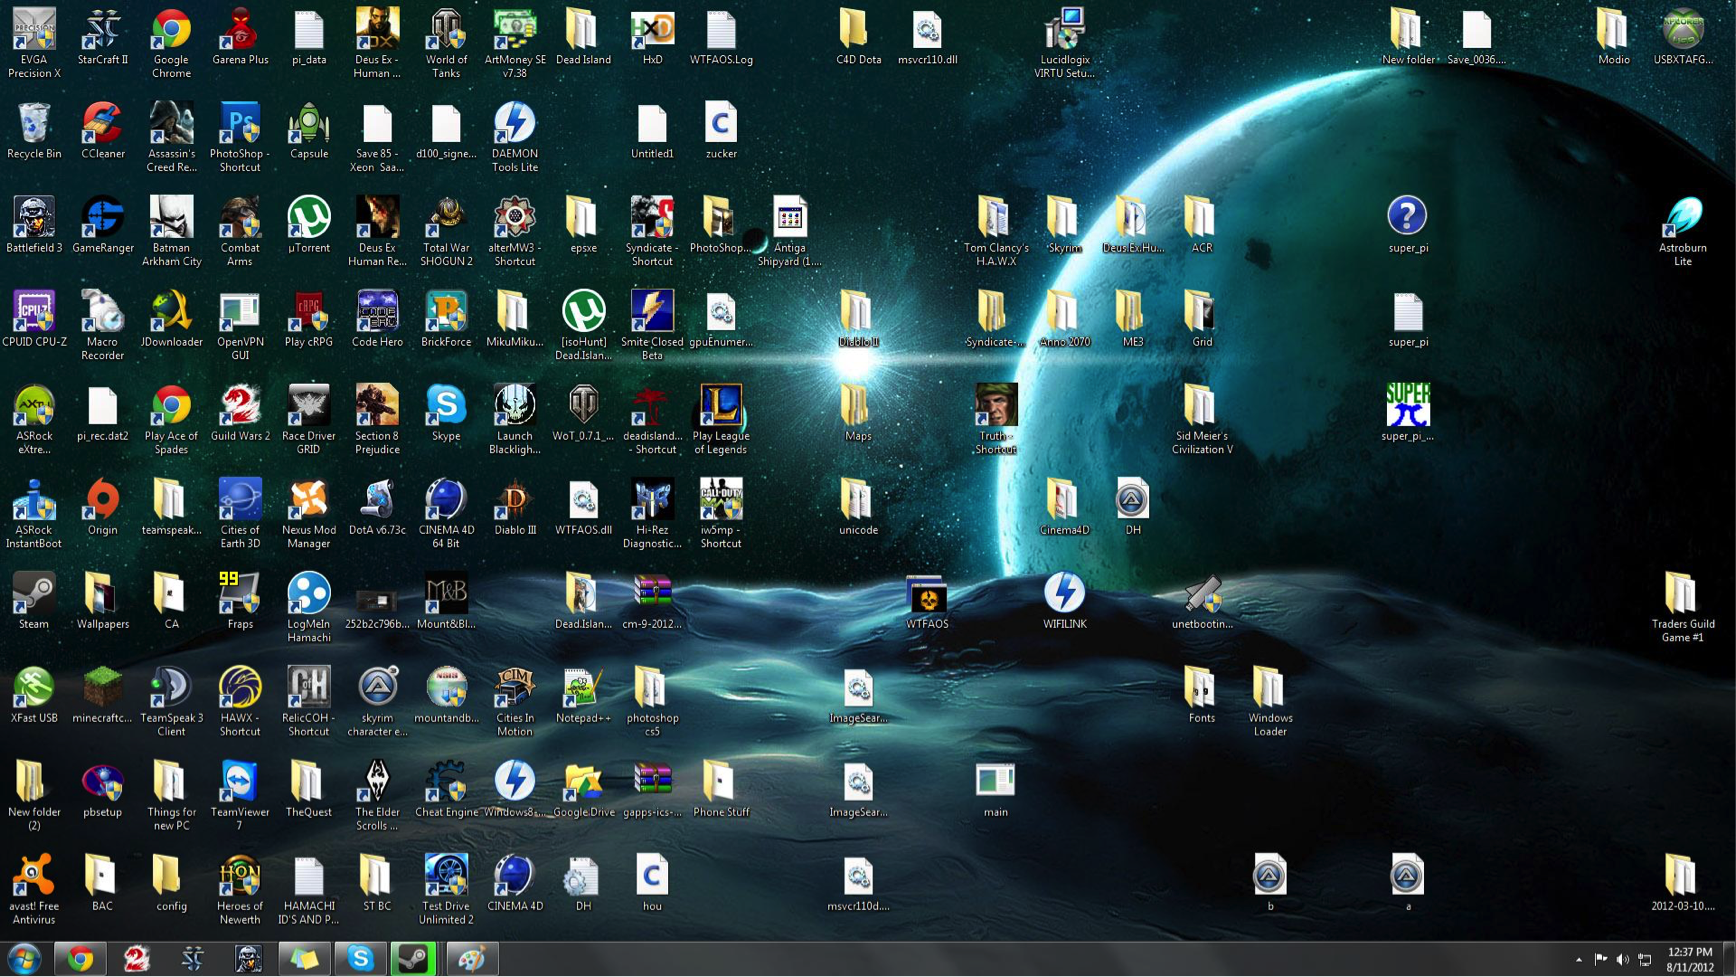start_bar: (4, 939, 43, 972)
